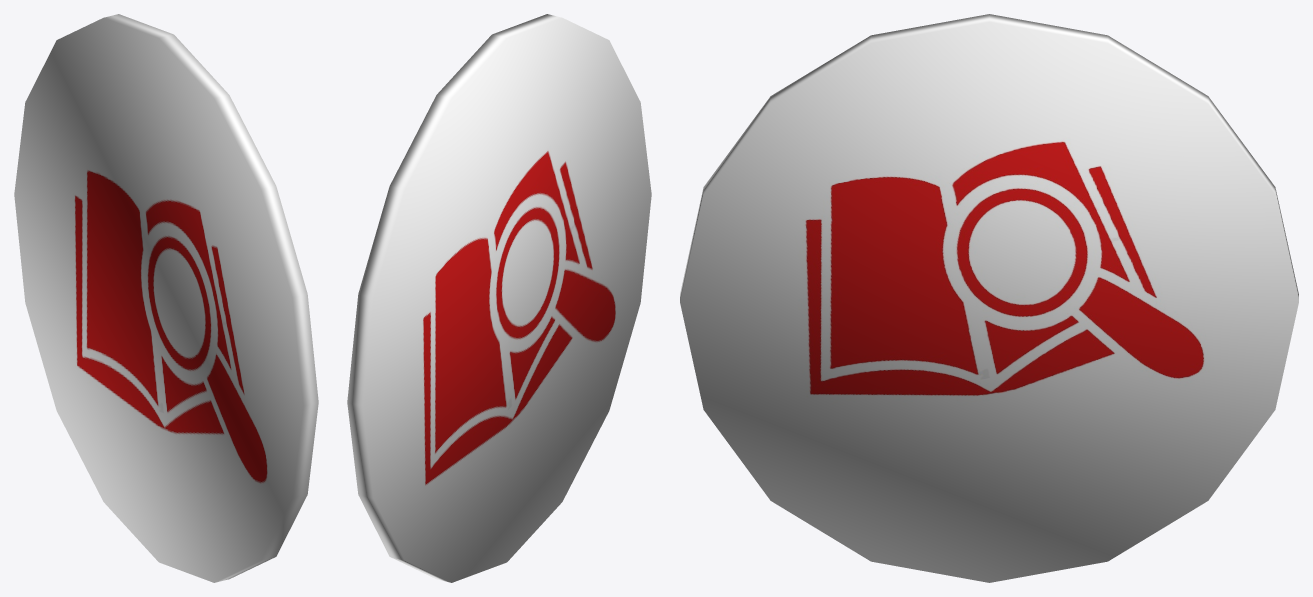
Rendered from info.glb.
The picture shows the model from 3 angles, left to right: view 1: azimuth 30°, elevation 25°; view 2: azimuth 150°, elevation 25°; view 3: azimuth 270°, elevation 25°; orthographic projection. The views are drawn at different scales.
Visible parts, largest first — view 1: Circle; view 2: Circle; view 3: Circle.
Boxes of the visible parts, x1=… form: Circle: x1=14, y1=14, x2=318, y2=582; Circle: x1=347, y1=14, x2=651, y2=582; Circle: x1=680, y1=14, x2=1298, y2=582.
Bounding box in the file's own units: 0.00917 × 0.3 × 0.3.
1 material, 1 textured.
